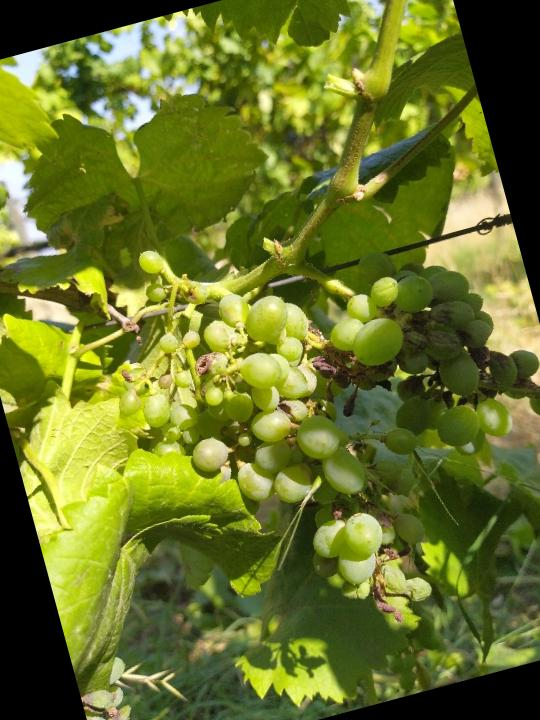grape: (78, 193, 461, 680), (309, 215, 540, 486)
